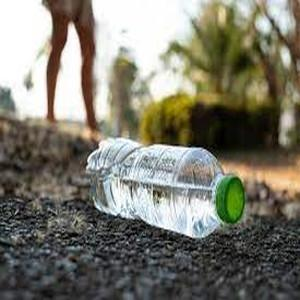Plastic: (86, 136, 246, 238)
